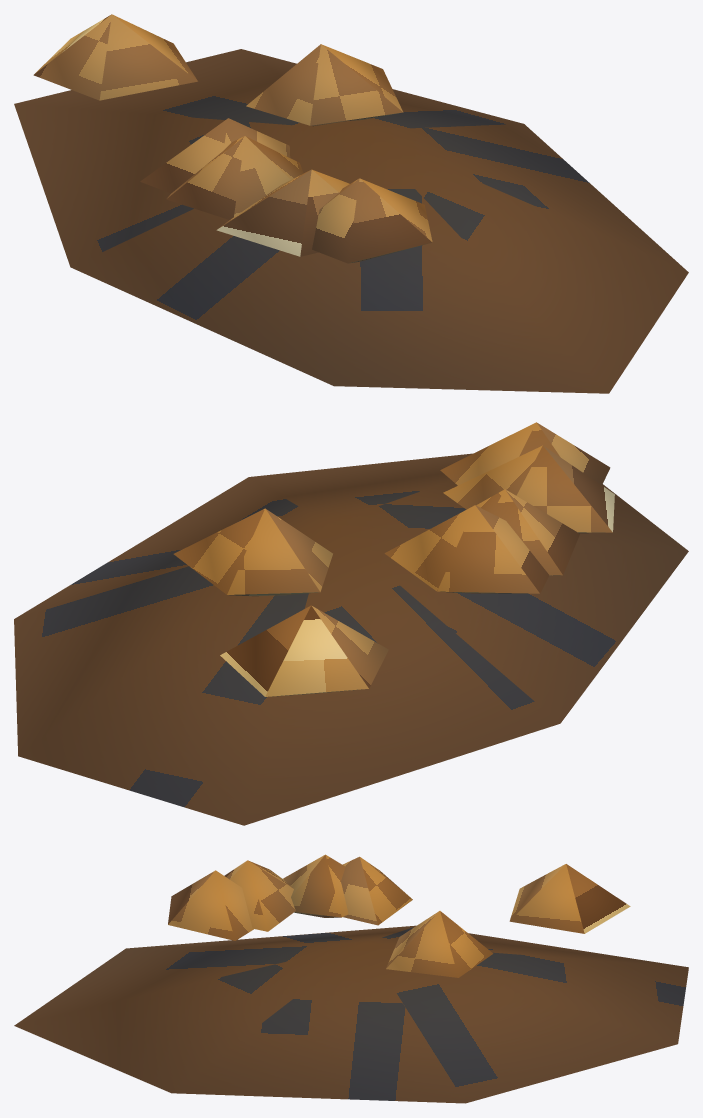
The model's file is wprop.tombstone__cairn.glb.
3 views of the same model, one above another, from view 1: azimuth 30°, elevation 25°; view 2: azimuth 150°, elevation 25°; view 3: azimuth 270°, elevation 25° (orthographic). The views are drawn at different scales.
Parts seen in each view (by area): view 1: kit_mound, kit_stones; view 2: kit_mound, kit_stones; view 3: kit_mound, kit_stones.
Boxes of the visible parts, <box> form: kit_mound: <box>14,49,688,393</box>; kit_stones: <box>33,14,432,263</box>; kit_mound: <box>14,453,688,825</box>; kit_stones: <box>173,422,614,696</box>; kit_mound: <box>14,925,688,1103</box>; kit_stones: <box>168,854,630,977</box>.
Bounding box in the file's own units: 0.8468 × 0.328 × 1.34.
Materials: 2 (2 with a texture image).
